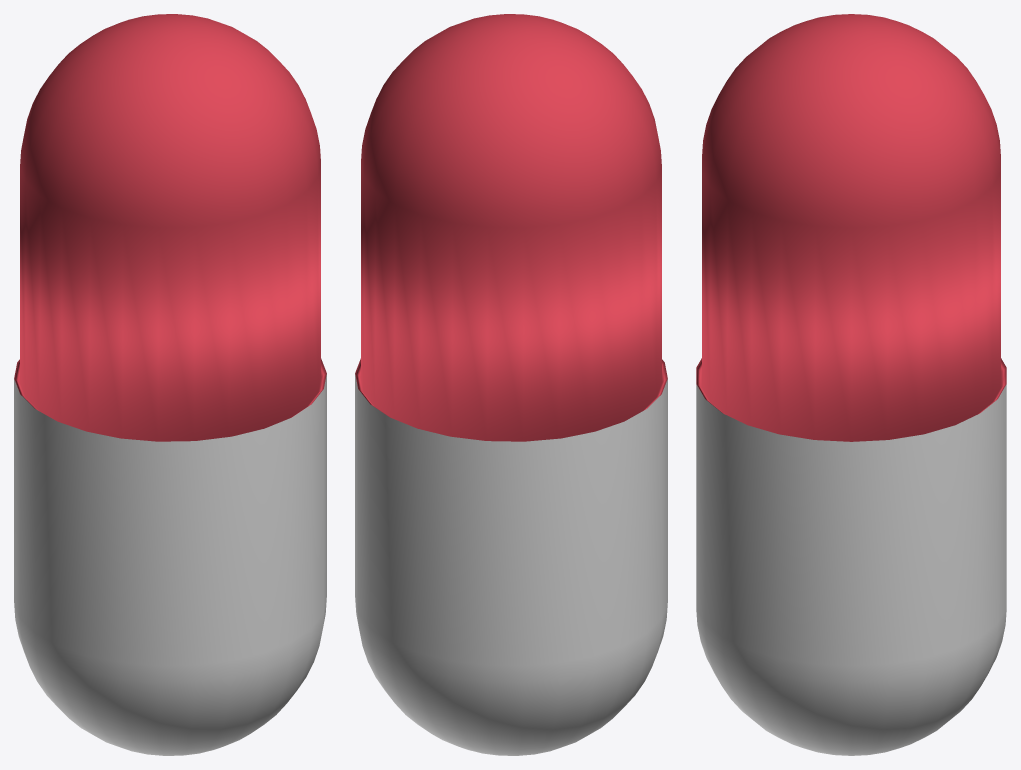
The model's file is PowerUp.fbx.
The picture shows the model from 3 angles, left to right: view 1: azimuth 30°, elevation 25°; view 2: azimuth 150°, elevation 25°; view 3: azimuth 270°, elevation 25°; orthographic projection.
Parts seen in each view (by area): view 1: pill; view 2: pill; view 3: pill.
Boxes of the visible parts, bbox=[...] form: pill: bbox=[14, 14, 326, 755]; pill: bbox=[355, 14, 667, 755]; pill: bbox=[696, 14, 1006, 755].
Bounding box in the file's own units: 9.45 × 23.79 × 9.38.
